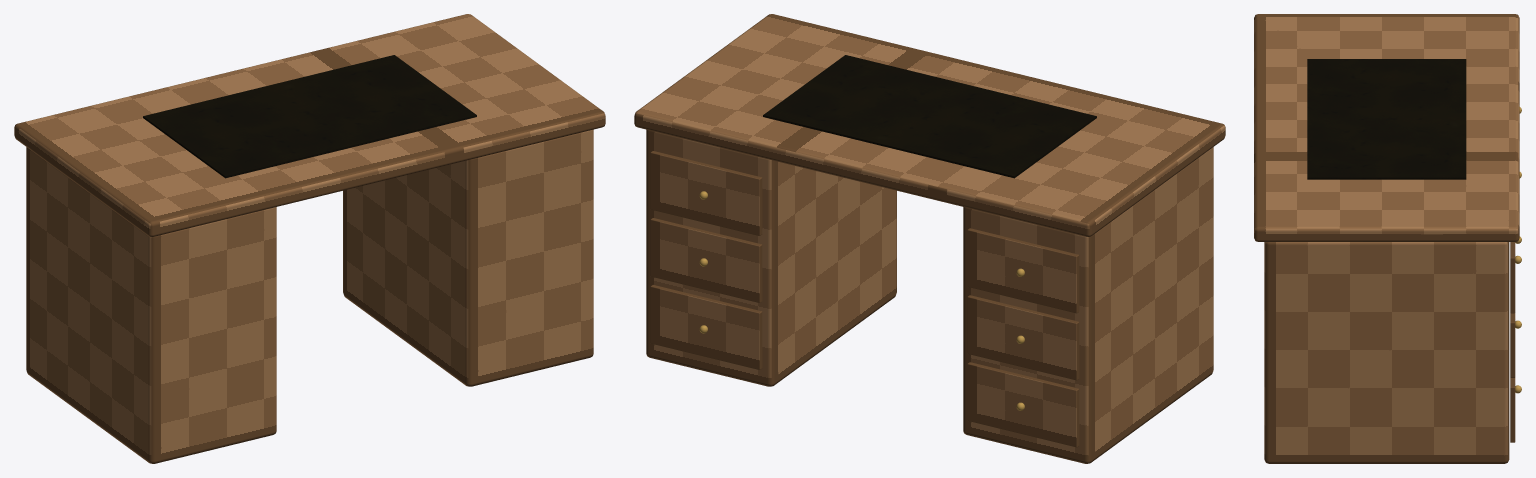
The model's file is desk.glb.
3 views of the same model, side by side, from view 1: azimuth 30°, elevation 25°; view 2: azimuth 150°, elevation 25°; view 3: azimuth 270°, elevation 25° (orthographic). The views are drawn at different scales.
Visible parts, largest first — view 1: dyn_wood_variant, desk; view 2: dyn_wood_variant, desk; view 3: dyn_wood_variant, desk.
Part boxes in pixels (x1,y1,x2,y2): dyn_wood_variant: (14, 14, 605, 463); desk: (143, 55, 476, 178); dyn_wood_variant: (634, 14, 1225, 463); desk: (699, 55, 1096, 410); dyn_wood_variant: (1254, 14, 1519, 463); desk: (1307, 59, 1521, 393).
Bounding box in the file's own units: 1.5 × 0.7864 × 0.787.
3 materials, 3 textured.
